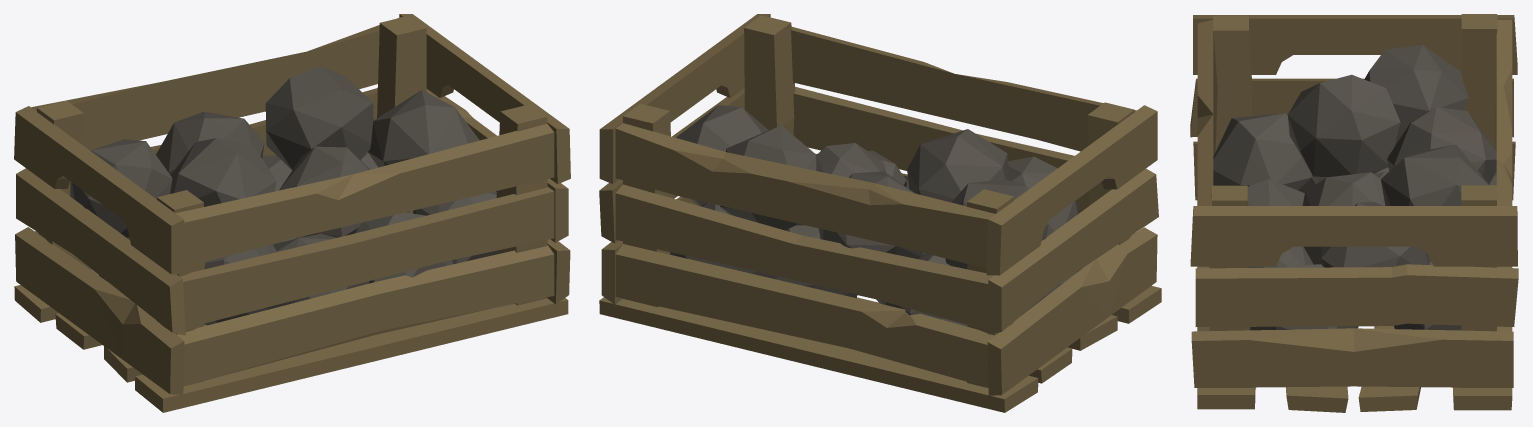
Rendered from CannonballBox.fbx.
The picture shows the model from 3 angles, left to right: view 1: azimuth 30°, elevation 25°; view 2: azimuth 150°, elevation 25°; view 3: azimuth 270°, elevation 25°; orthographic projection. The views are drawn at different scales.
Visible parts, largest first — view 1: CannonballBox; view 2: CannonballBox; view 3: CannonballBox.
Boxes of the visible parts, bbox=[...] form: CannonballBox: bbox=[14, 14, 570, 412]; CannonballBox: bbox=[599, 14, 1161, 412]; CannonballBox: bbox=[1190, 14, 1518, 412].
Bounding box in the file's own units: 79.64 × 36.09 × 53.12.
